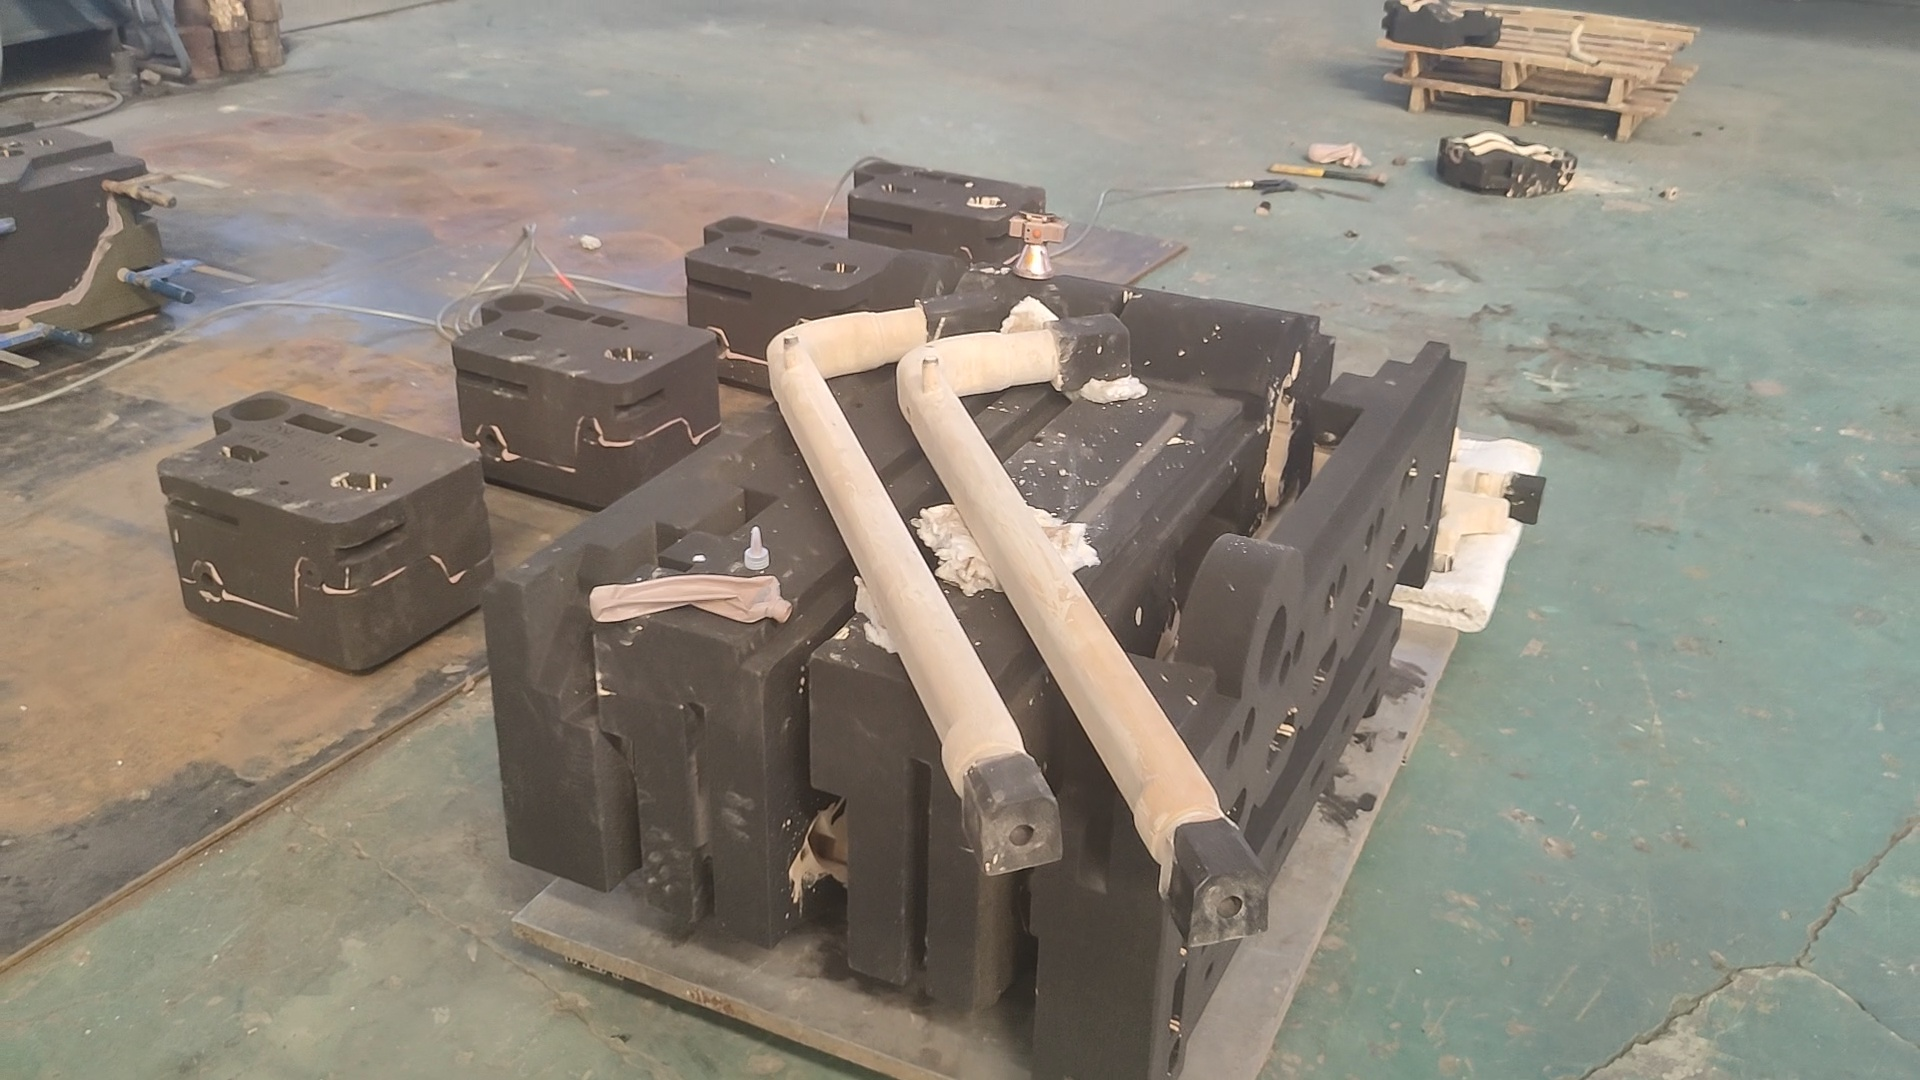pouring hole: (1259, 607, 1286, 688), (229, 398, 290, 419), (495, 295, 543, 311), (715, 216, 757, 231), (862, 162, 903, 175)
